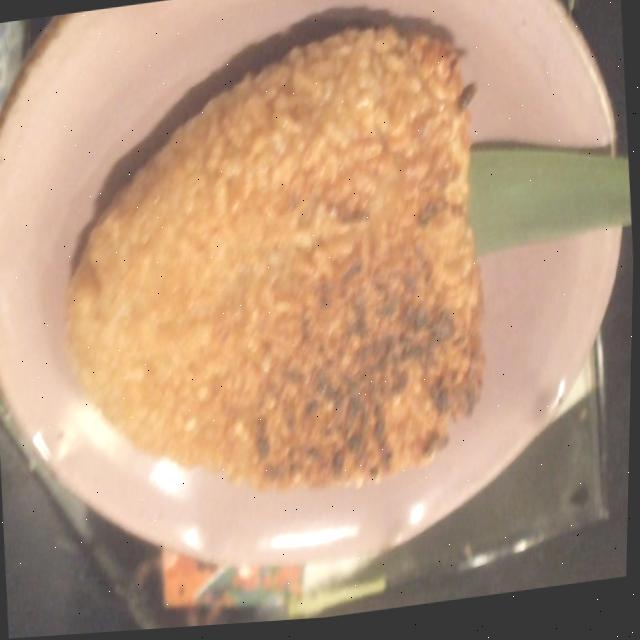米饭主食: (32, 20, 511, 510)
